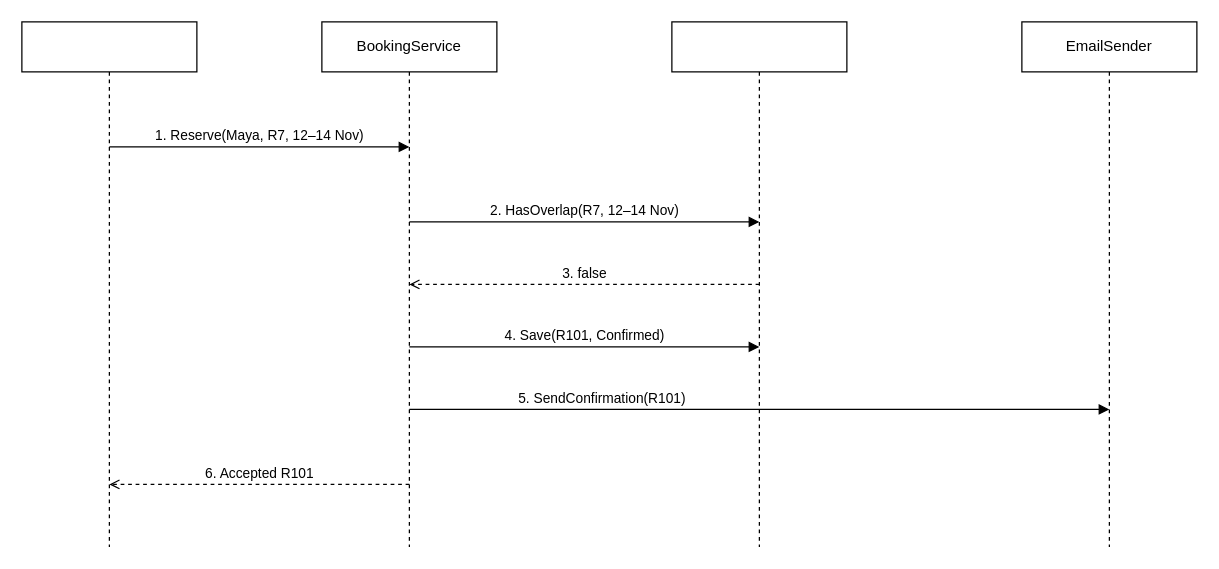
Some shapes in this 1219 by 569 pixel diagram are drawn without their labels. The box of each missing label's shape, as (x1, y1, x2, y2) in pixels:
Maya: (21, 21, 197, 547)
ReservationStore: (671, 21, 847, 547)
